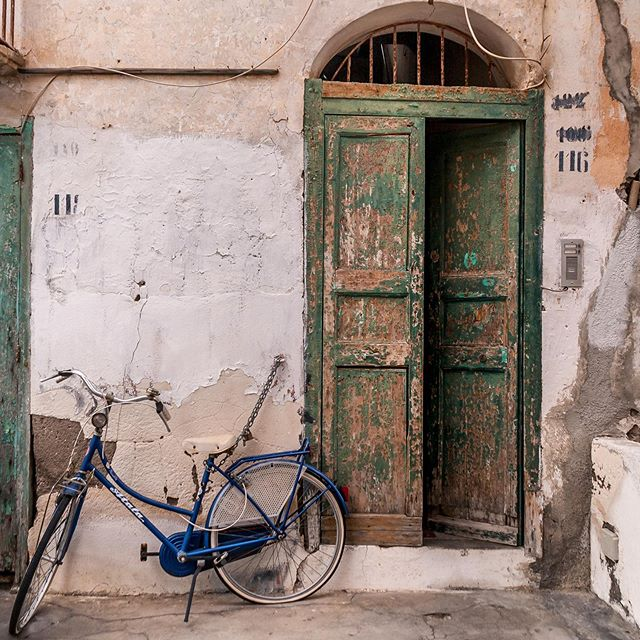bicicle: (1, 372, 362, 640)
door: (330, 95, 538, 538)
